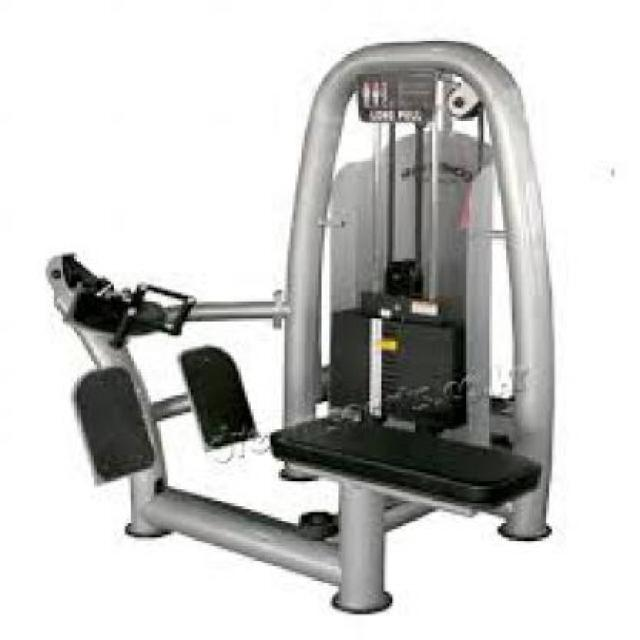Seated Cable Rows: (42, 20, 569, 626)
